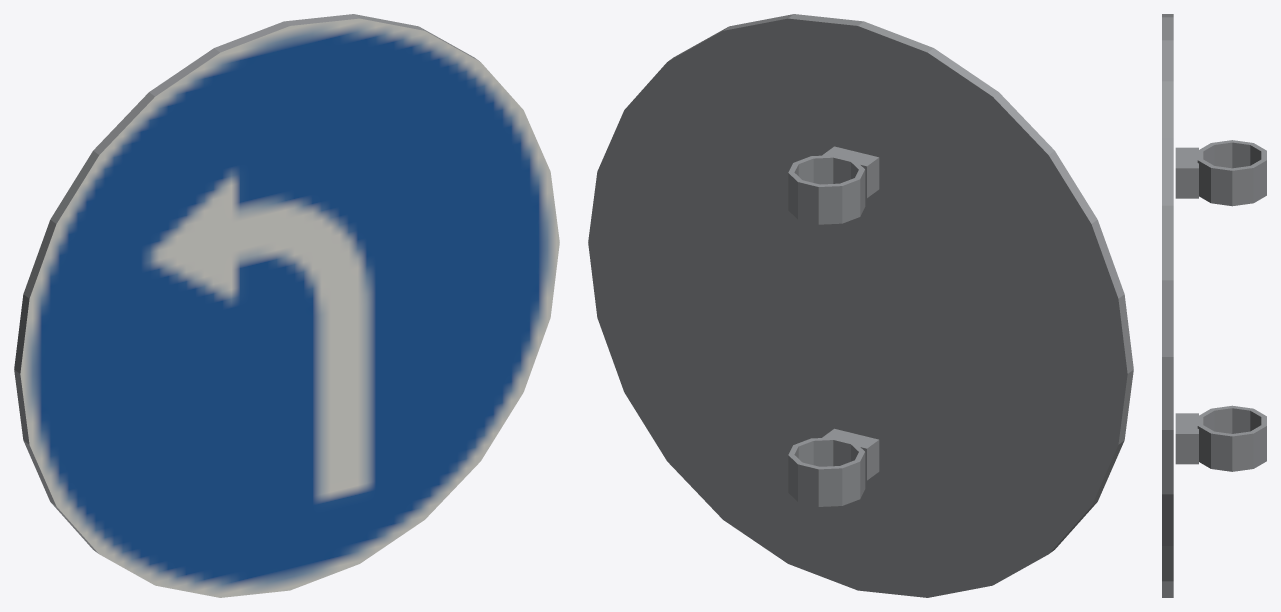
The model's file is SM_Street_Sign_DirLeft_High_01.fbx.
3 views of the same model, side by side, from view 1: azimuth 30°, elevation 25°; view 2: azimuth 150°, elevation 25°; view 3: azimuth 270°, elevation 25° (orthographic). The views are drawn at different scales.
Parts seen in each view (by area): view 1: SM_Street_Sign_DirLeft_High_01; view 2: SM_Street_Sign_DirLeft_High_01; view 3: SM_Street_Sign_DirLeft_High_01.
Part boxes in pixels (box(x1,y1,x2,y2)): SM_Street_Sign_DirLeft_High_01: box(14, 14, 559, 597); SM_Street_Sign_DirLeft_High_01: box(588, 14, 1133, 597); SM_Street_Sign_DirLeft_High_01: box(1162, 14, 1266, 597).
Bounding box in the file's own units: 0.6 × 0.6 × 0.1074.
Materials: 1 (1 with a texture image).
